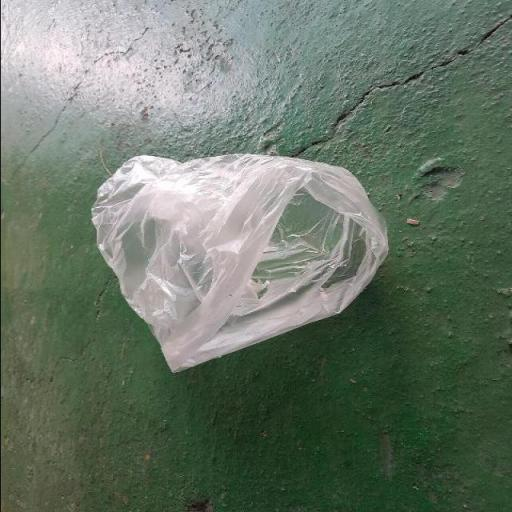plastic-bag: (87, 148, 392, 370)
